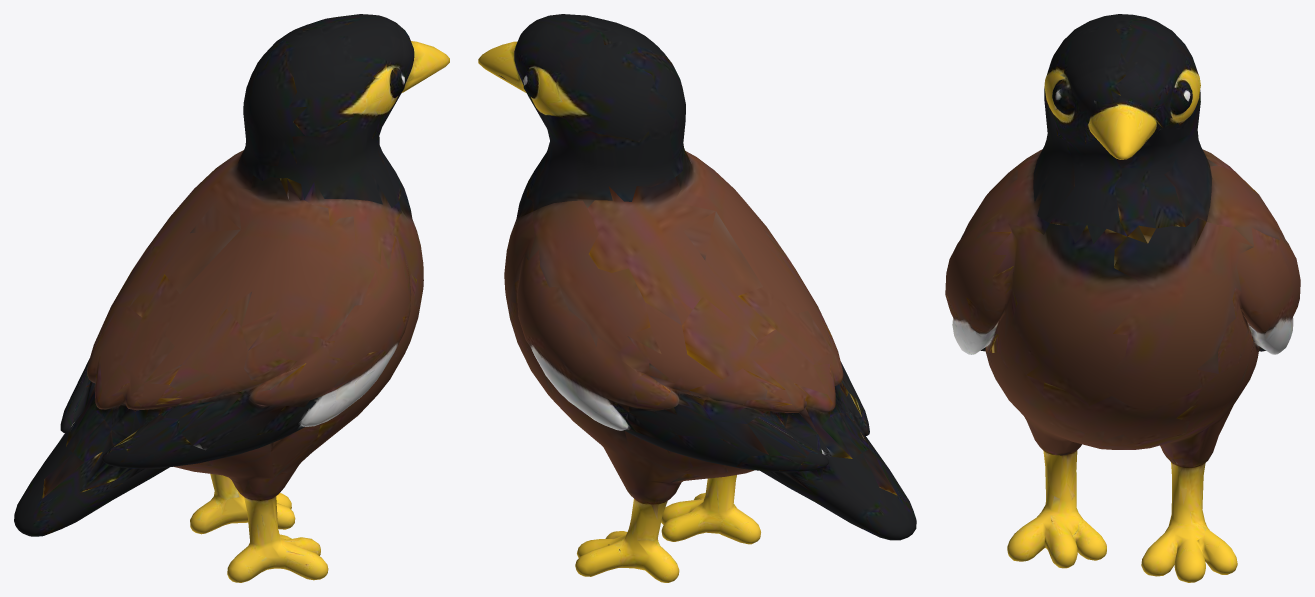
The model's file is bird.glb.
3 views of the same model, side by side, from view 1: azimuth 30°, elevation 25°; view 2: azimuth 150°, elevation 25°; view 3: azimuth 270°, elevation 25° (orthographic). The views are drawn at different scales.
Visible parts, largest first — view 1: bird; view 2: bird; view 3: bird.
Part boxes in pixels (box(x1,y1,x2,y2)): bird: box(14, 14, 449, 582); bird: box(478, 14, 916, 582); bird: box(945, 14, 1300, 582).
Size of the model in its own units: 0.4083 by 0.4568 by 0.2581.
1 material, 1 textured.
